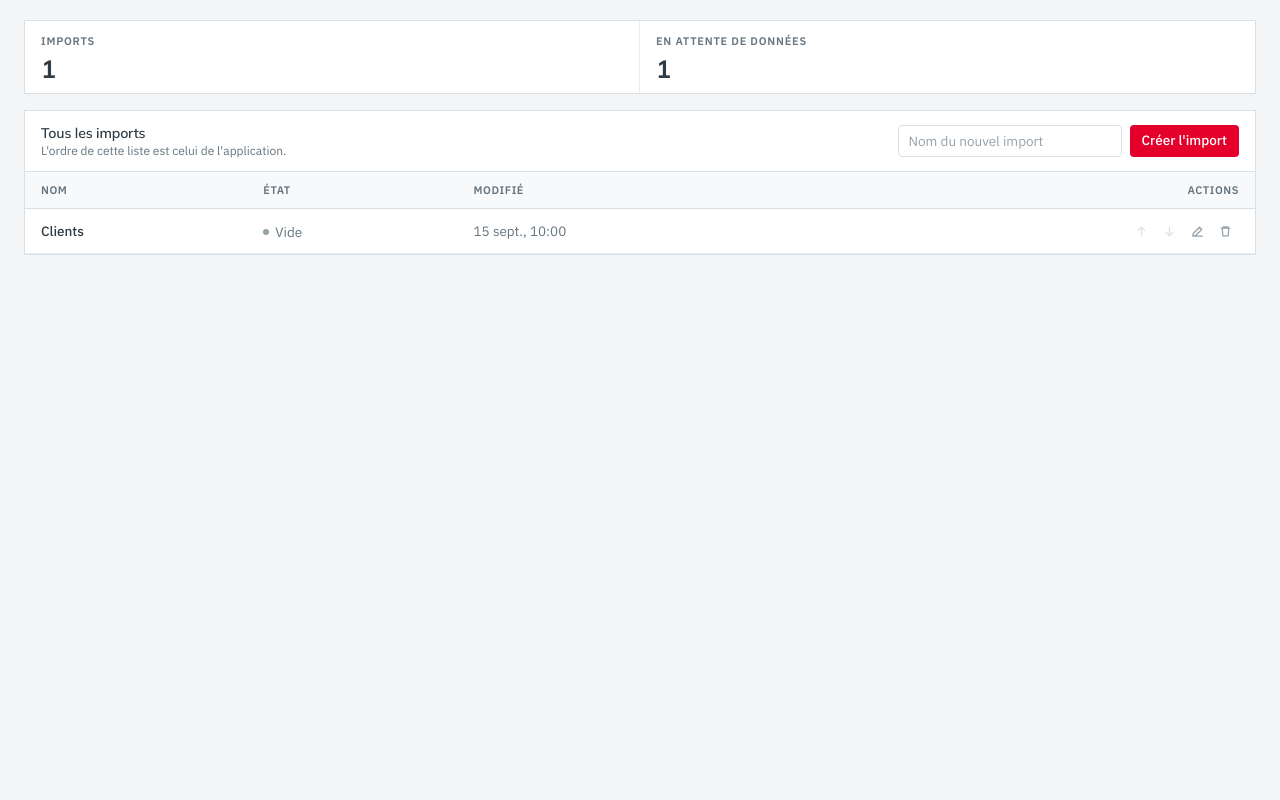
Test case: supprime un import après confirmation et oublie son tableau mémorisé
Click the button named "Supprimer Clients": (1225, 231) top-left (1211, 217), bottom-right (1239, 245)
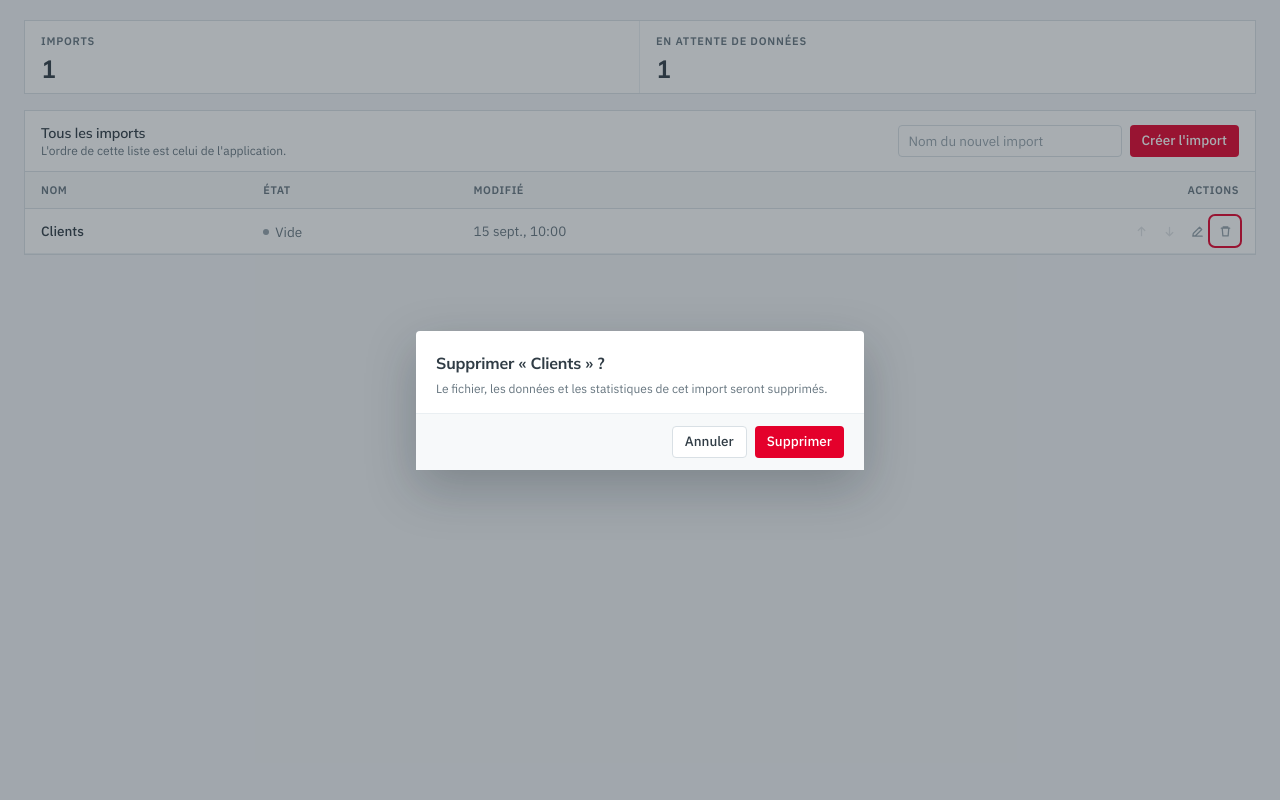
Click the button "Supprimer": (799, 442) top-left (755, 426), bottom-right (844, 458)
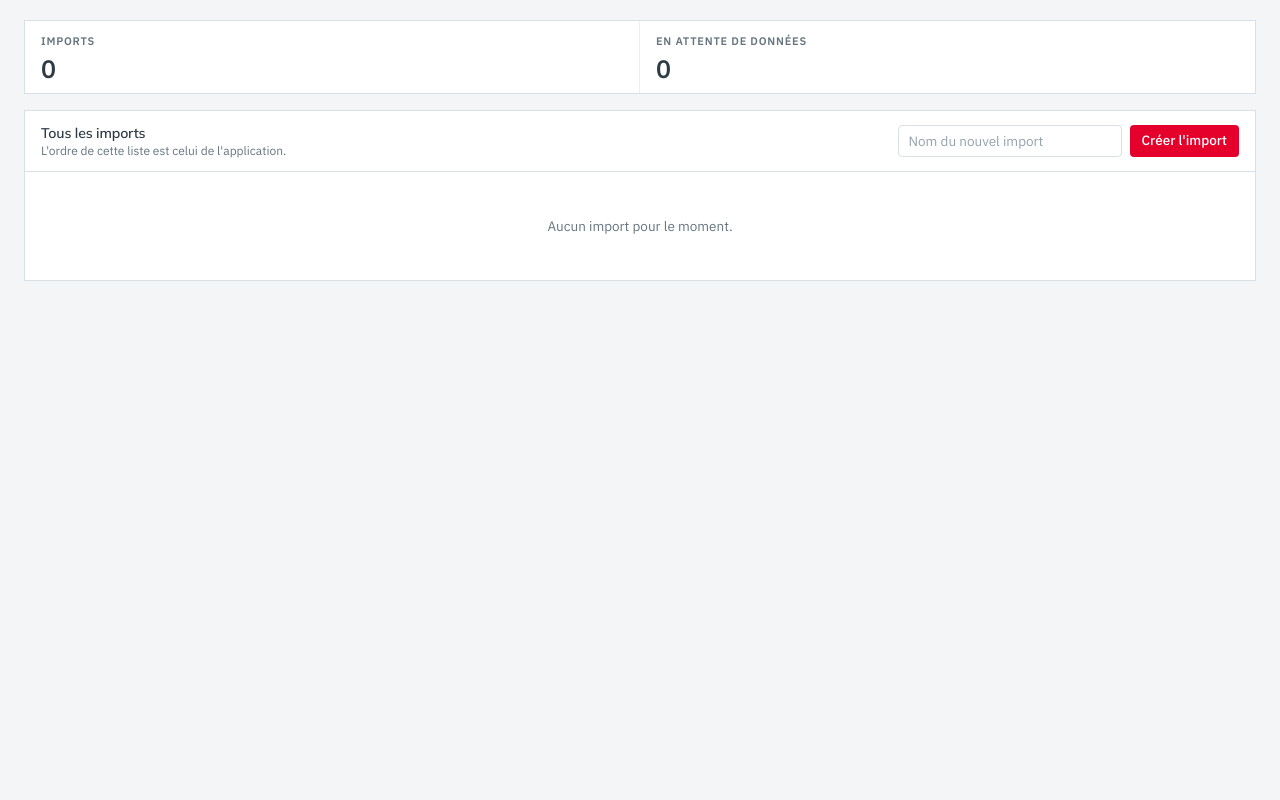
expect the text "Aucun import pour le moment." is shown: met, box top-left (547, 216), bottom-right (733, 234)
